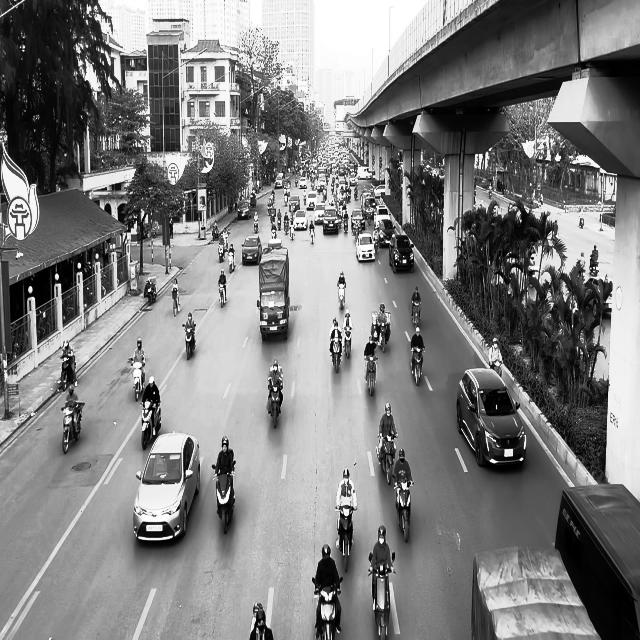car: (133, 431, 200, 543), (456, 368, 526, 468), (389, 234, 414, 273), (241, 234, 262, 266), (355, 232, 376, 262), (237, 200, 251, 219)
motorbike: (368, 552, 395, 639), (312, 576, 342, 640), (211, 460, 236, 534), (335, 505, 356, 572), (393, 476, 413, 542), (61, 401, 84, 454), (377, 433, 398, 485), (141, 399, 161, 450), (266, 378, 283, 428), (128, 356, 146, 401), (59, 355, 77, 391), (410, 345, 425, 385), (364, 354, 378, 396), (182, 323, 196, 360), (329, 335, 342, 373), (144, 277, 156, 304), (343, 327, 352, 359), (411, 301, 421, 327), (338, 281, 346, 309), (218, 282, 226, 308), (589, 256, 599, 276), (228, 250, 235, 273), (310, 224, 314, 245)
truck: (256, 239, 290, 341)
